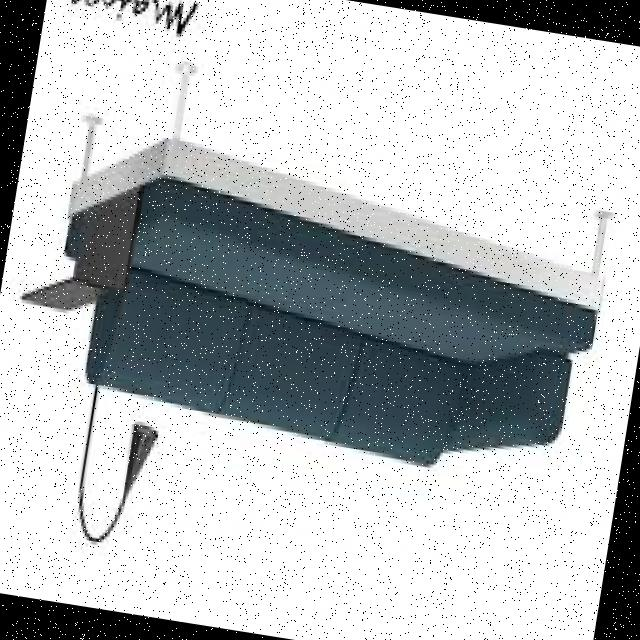Sofa: (0, 36, 640, 608)
